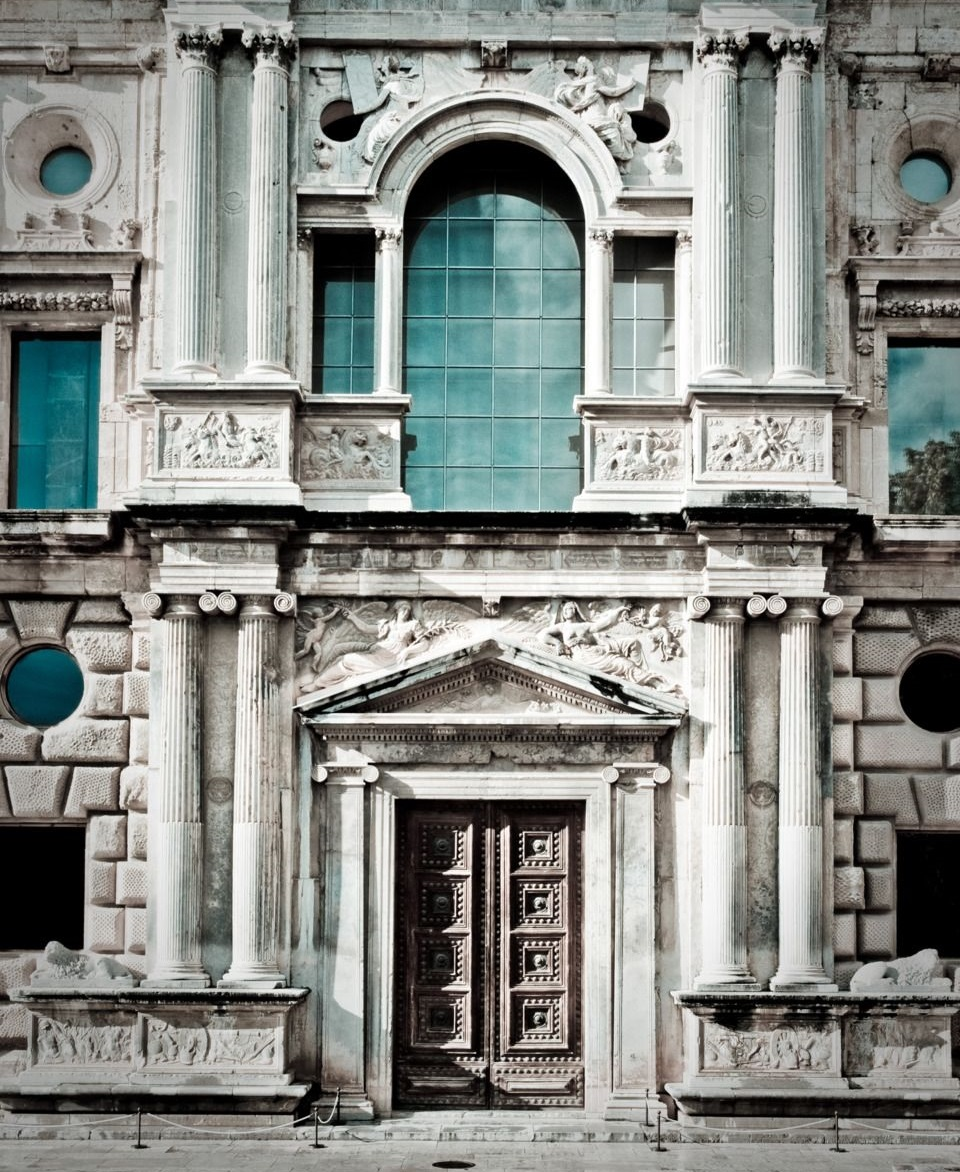fronton: (293, 635, 691, 739)
ojo-de-buey: (1, 98, 124, 204), (1, 639, 86, 734), (880, 114, 960, 210), (899, 633, 960, 740)
serliana: (293, 92, 686, 415)
vano-adintelado: (363, 754, 613, 1118), (1, 268, 147, 517), (874, 274, 960, 519)
